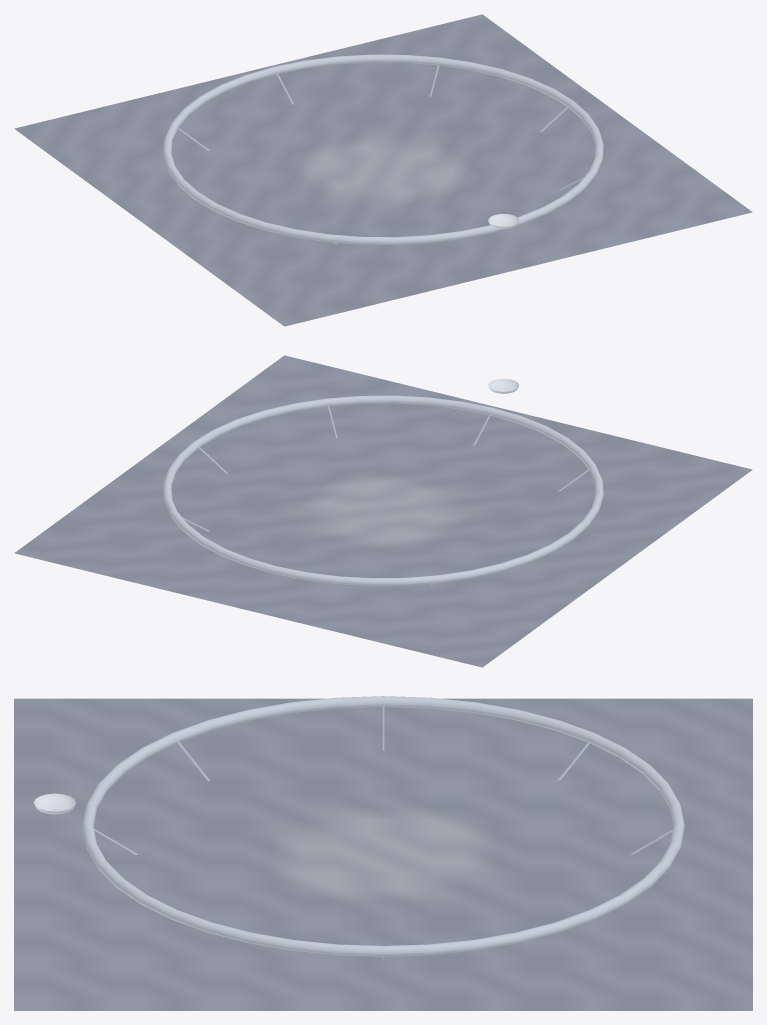
Rendered from env_lod1.glb.
3 views of the same model, one above another, from view 1: azimuth 30°, elevation 25°; view 2: azimuth 150°, elevation 25°; view 3: azimuth 270°, elevation 25° (orthographic). The views are drawn at different scales.
Parts seen in each view (by area): view 1: orbit_deck, station; view 2: orbit_deck, station; view 3: orbit_deck, station.
Boxes of the visible parts, x1,y1,x2,y2 form: orbit_deck: [14, 14, 752, 326]; station: [163, 54, 603, 244]; orbit_deck: [14, 355, 752, 667]; station: [163, 378, 603, 585]; orbit_deck: [14, 698, 752, 1010]; station: [33, 696, 684, 959].
Bounding box in the file's own units: 90 × 7.18 × 90.
